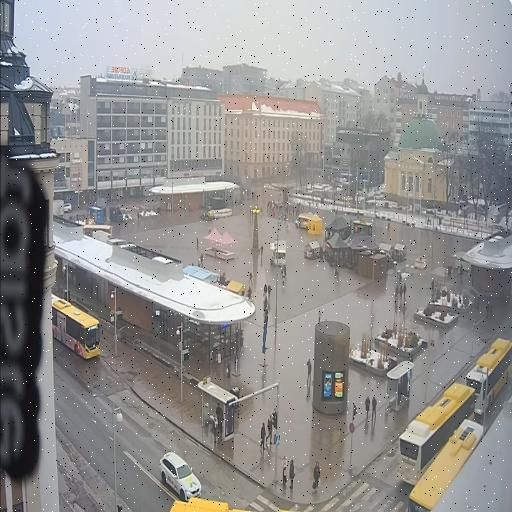Bus: (396, 381, 475, 484), (406, 420, 483, 511), (467, 337, 511, 415), (49, 294, 99, 357), (169, 499, 234, 511)
